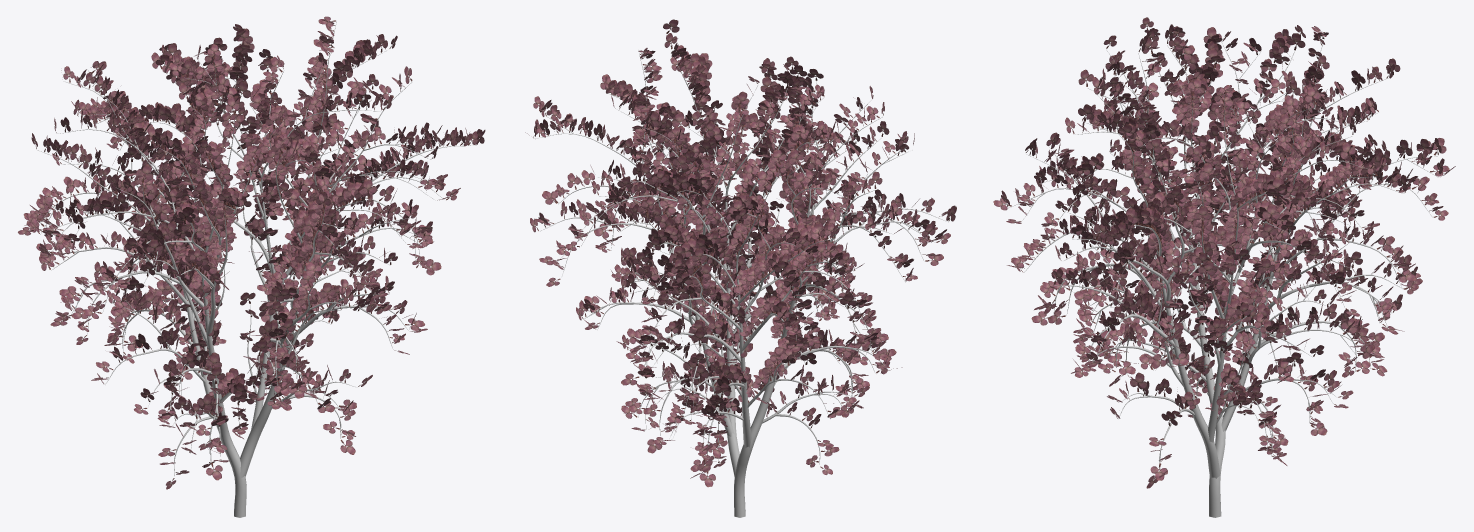
The model's file is Amazonie_Arbre_29.fbx.
3 views of the same model, side by side, from view 1: azimuth 30°, elevation 25°; view 2: azimuth 150°, elevation 25°; view 3: azimuth 270°, elevation 25° (orthographic). The views are drawn at different scales.
Visible parts, largest first — view 1: Plane.001, tree; view 2: Plane.001, tree; view 3: Plane.001, tree.
Part boxes in pixels (x1=…): Plane.001: x1=18, y1=16, x2=485, y2=489; tree: x1=37, y1=21, x2=476, y2=517; Plane.001: x1=525, y1=19, x2=956, y2=487; tree: x1=533, y1=35, x2=948, y2=517; Plane.001: x1=993, y1=17, x2=1455, y2=488; tree: x1=1008, y1=37, x2=1438, y2=517.
Size of the model in its own units: 732 by 764 by 678.
